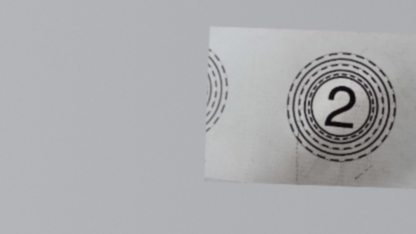2r: (283, 48, 398, 164)
